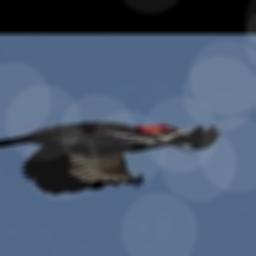Woodpecker: (0, 121, 219, 195)
